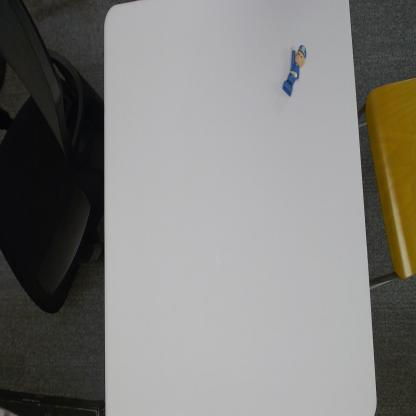Octopus: (282, 37, 308, 100)
